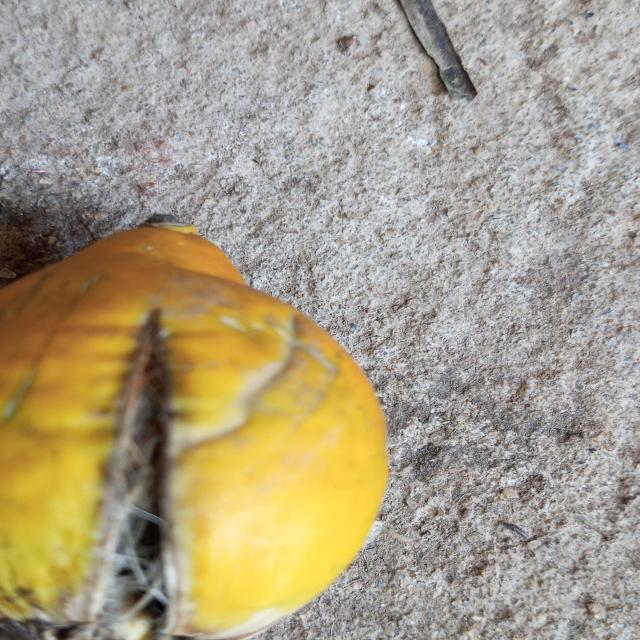damaged: (0, 222, 390, 640)
